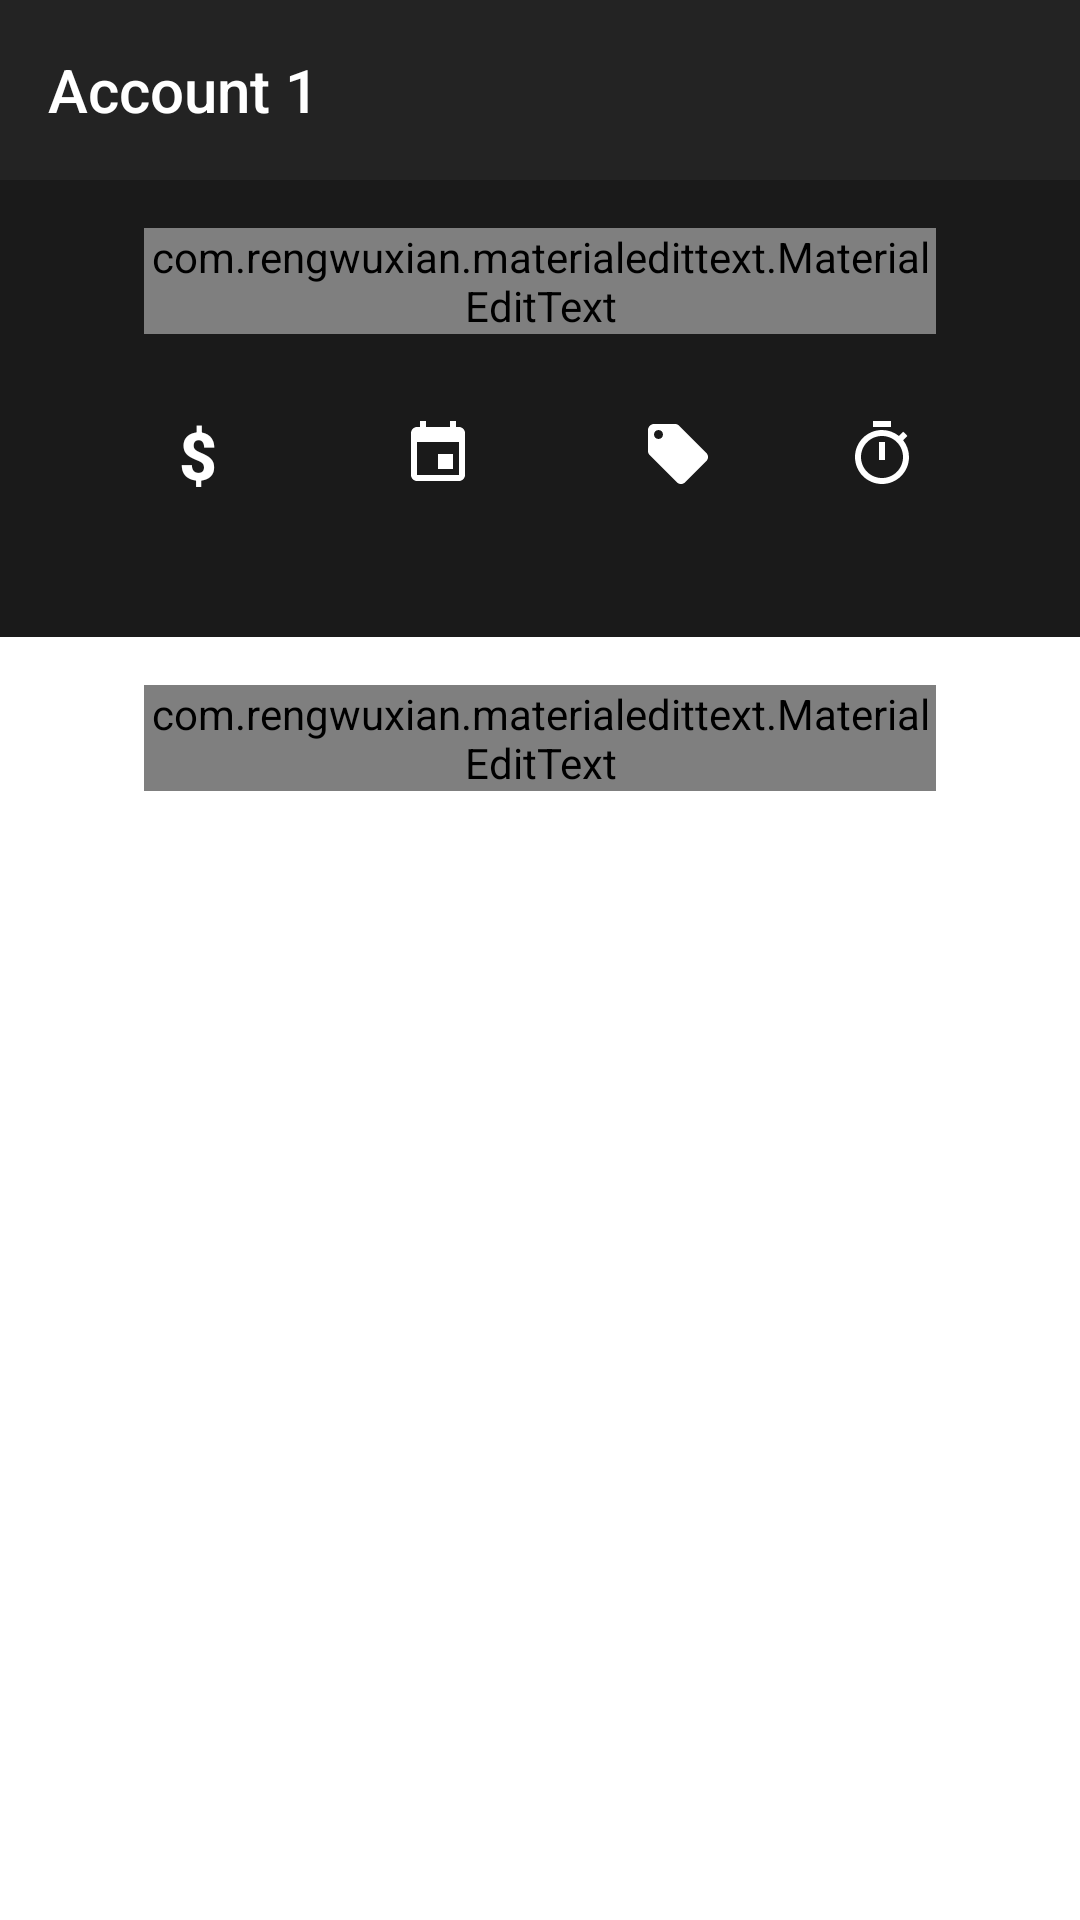

Point at icon controls on the screen. Image size 1080 x 1920, points as (x,y).
category: (678,454)
date: (438,451)
timer: (882,452)
